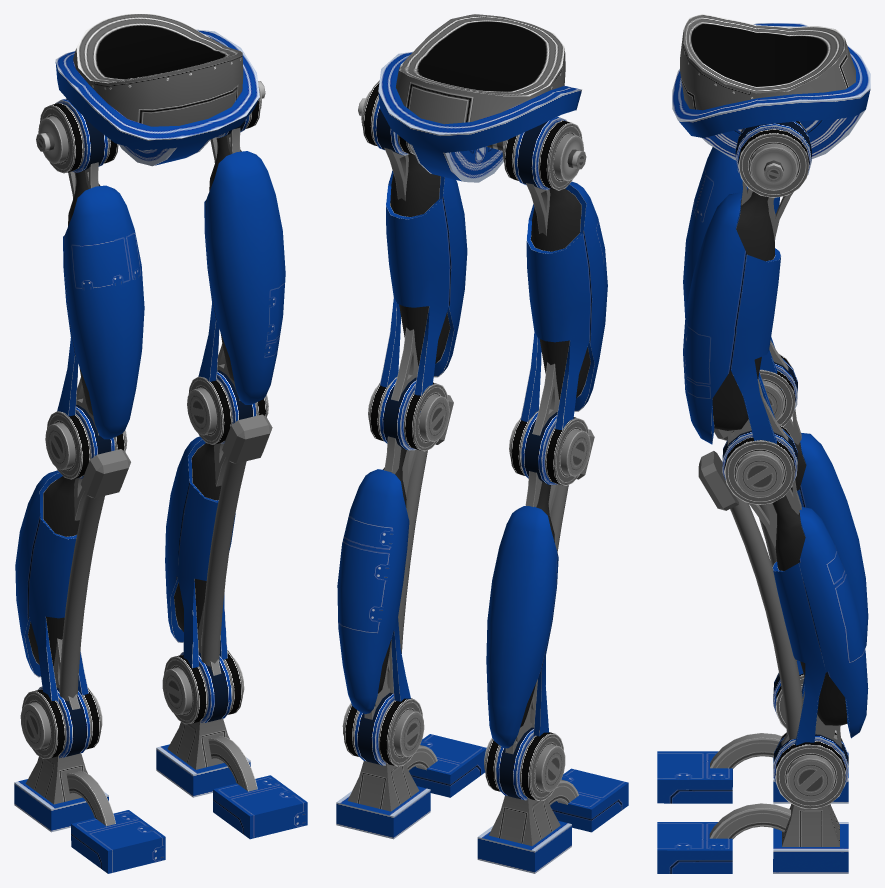
Rendered from legs_b.fbx.
3 renders of one model, left to right at view 1: azimuth 30°, elevation 25°; view 2: azimuth 150°, elevation 25°; view 3: azimuth 270°, elevation 25°, orthographic. The views are drawn at different scales.
Visible parts, largest first — view 1: LEGS_B; view 2: LEGS_B; view 3: LEGS_B.
Part boxes in pixels (x1,y1,x2,y2): LEGS_B: (14,14,307,873); LEGS_B: (336,14,628,873); LEGS_B: (657,14,870,873).
Size of the model in its own units: 28.17 by 94.71 by 23.26.
